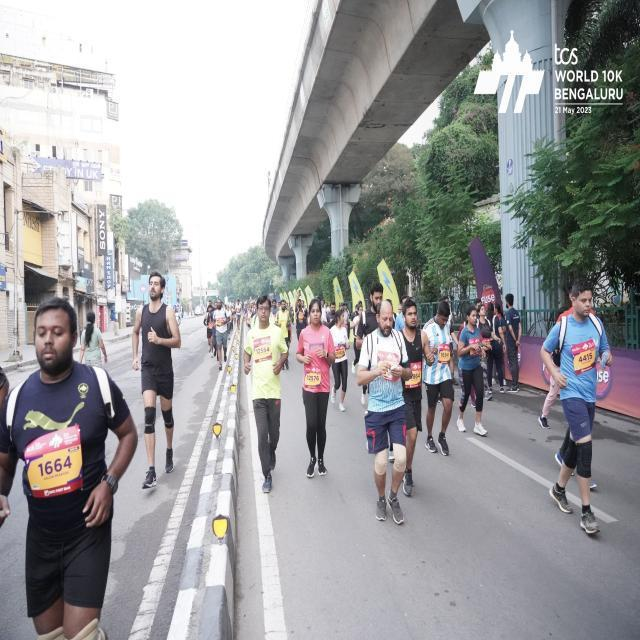dorsal: (23, 434, 84, 496), (252, 337, 274, 362), (304, 364, 322, 390)
